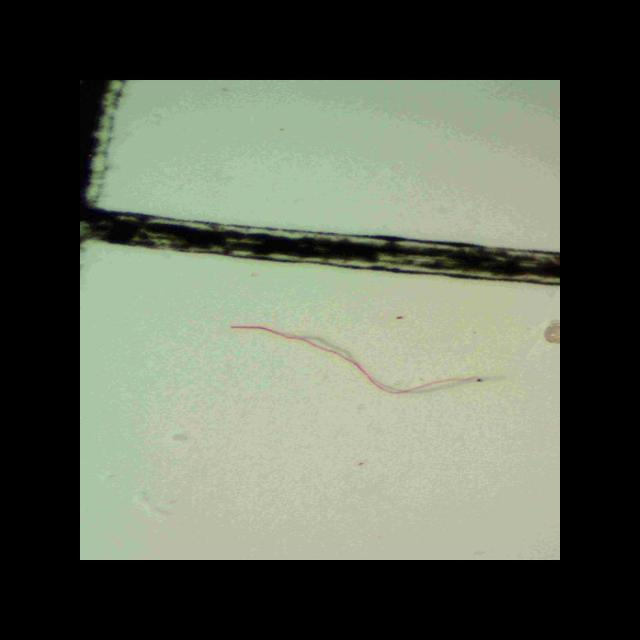Fibre: (80, 80, 560, 558), (221, 324, 483, 398)
